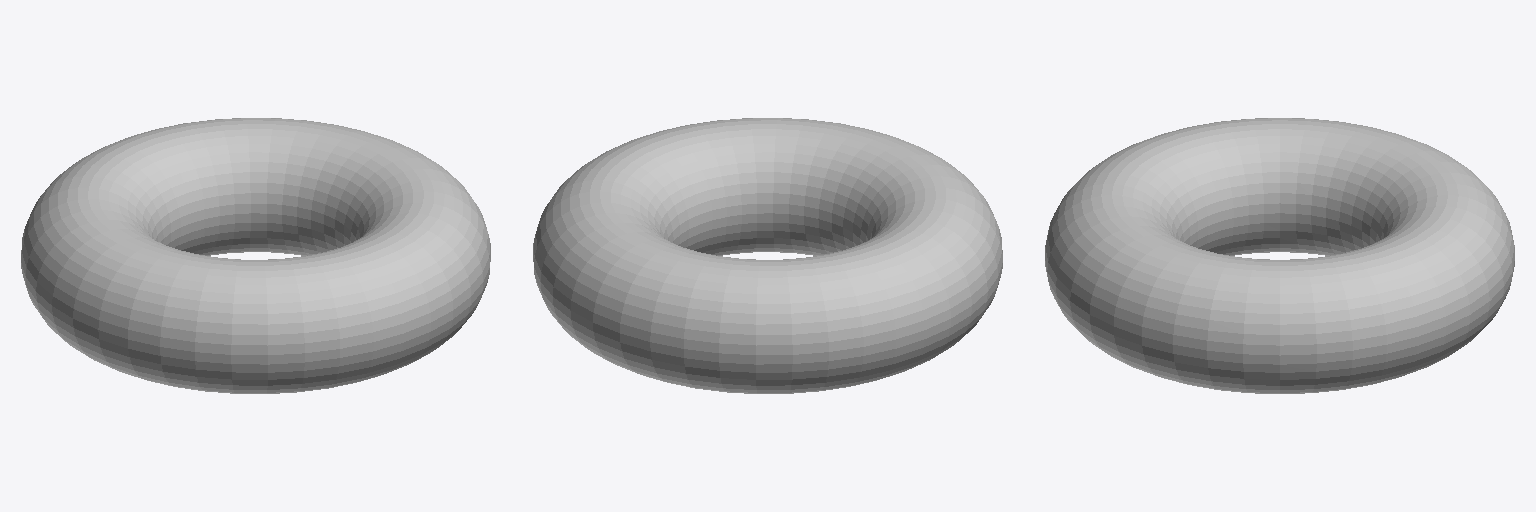
File: Torus-regular-flip-Normal.obj
3 renders of one model, left to right at view 1: azimuth 30°, elevation 25°; view 2: azimuth 150°, elevation 25°; view 3: azimuth 270°, elevation 25°, orthographic.
Visible parts, largest first — view 1: 000_Torus; view 2: 000_Torus; view 3: 000_Torus.
Boxes of the visible parts, x1,y1,x2,y2 form: 000_Torus: [21, 118, 490, 393]; 000_Torus: [533, 118, 1002, 393]; 000_Torus: [1045, 118, 1514, 393].
Size of the model in its own units: 280 by 80 by 280.